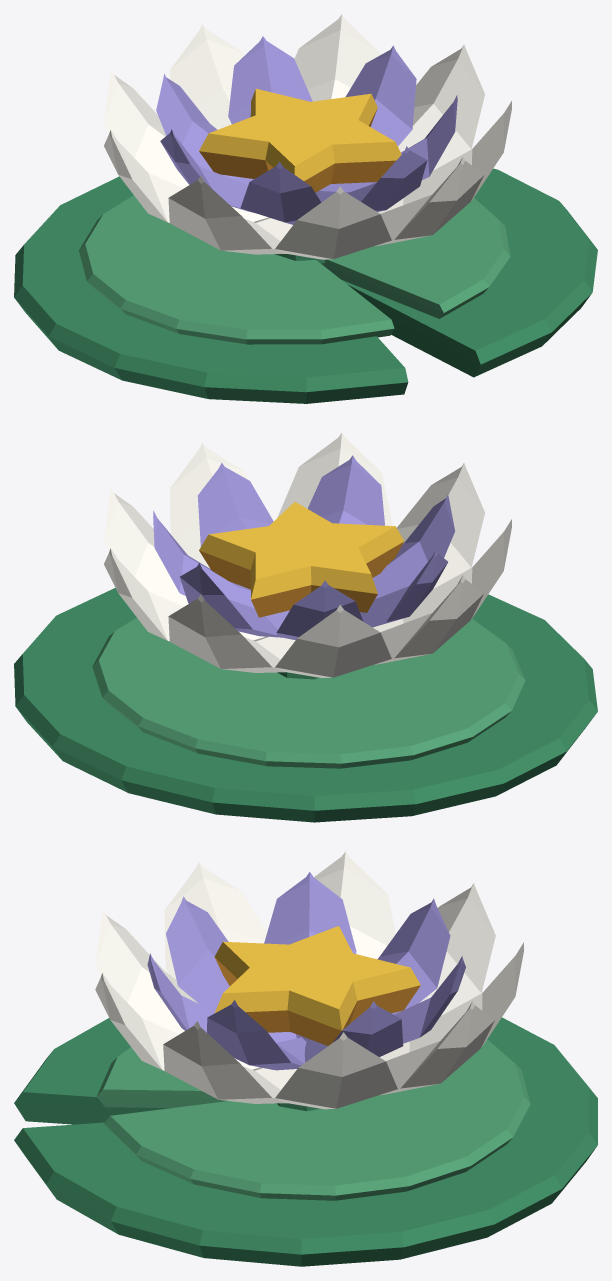
The model's file is 32-star-lotus.glb.
3 views of the same model, one above another, from view 1: azimuth 30°, elevation 25°; view 2: azimuth 150°, elevation 25°; view 3: azimuth 270°, elevation 25° (orthographic). The views are drawn at different scales.
Parts seen in each view (by area): view 1: 32-star-lotus_Body; view 2: 32-star-lotus_Body; view 3: 32-star-lotus_Body.
Part boxes in pixels (bbox=[...]): 32-star-lotus_Body: bbox=[14, 14, 597, 403]; 32-star-lotus_Body: bbox=[14, 433, 597, 822]; 32-star-lotus_Body: bbox=[14, 851, 597, 1266].
Size of the model in its own units: 0.6916 by 0.2424 by 0.642.
1 material, 1 textured.
